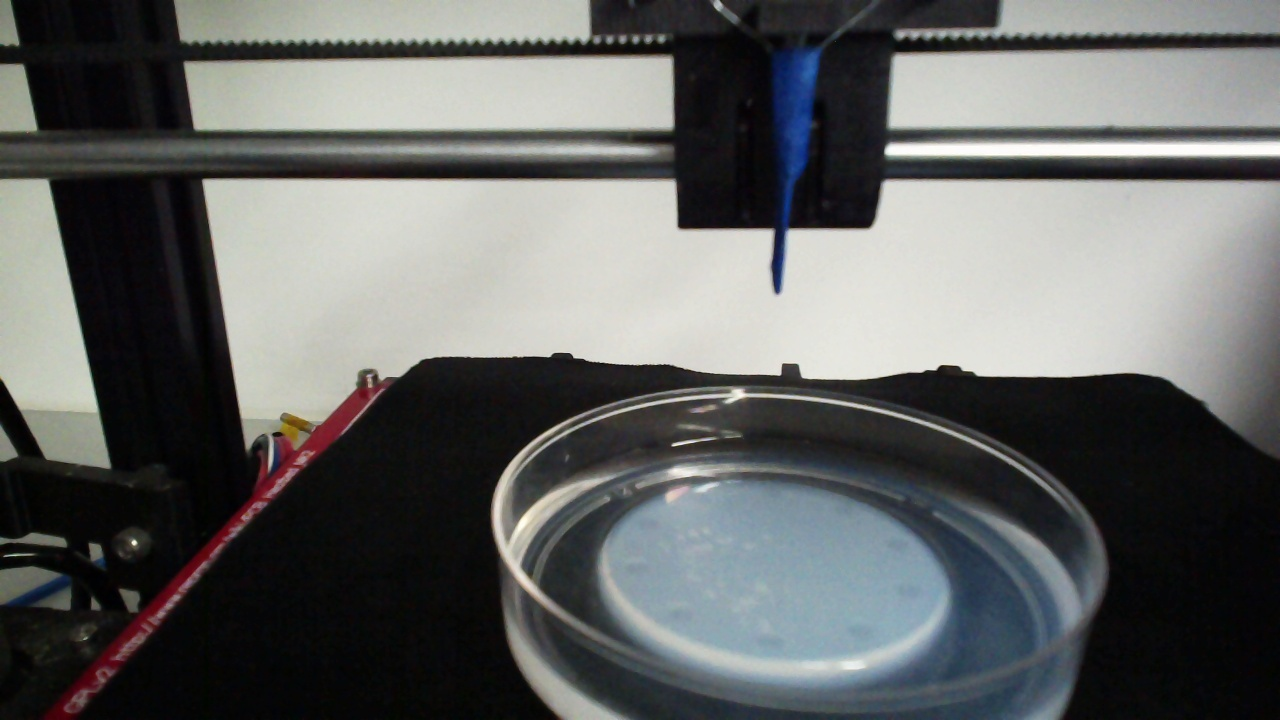groove: (666, 602, 697, 624), (895, 578, 924, 600), (846, 620, 879, 639), (633, 513, 664, 533), (756, 632, 788, 651), (830, 499, 856, 520), (622, 559, 654, 576), (885, 534, 912, 554), (762, 481, 786, 500)
needle: (771, 54, 818, 295)
